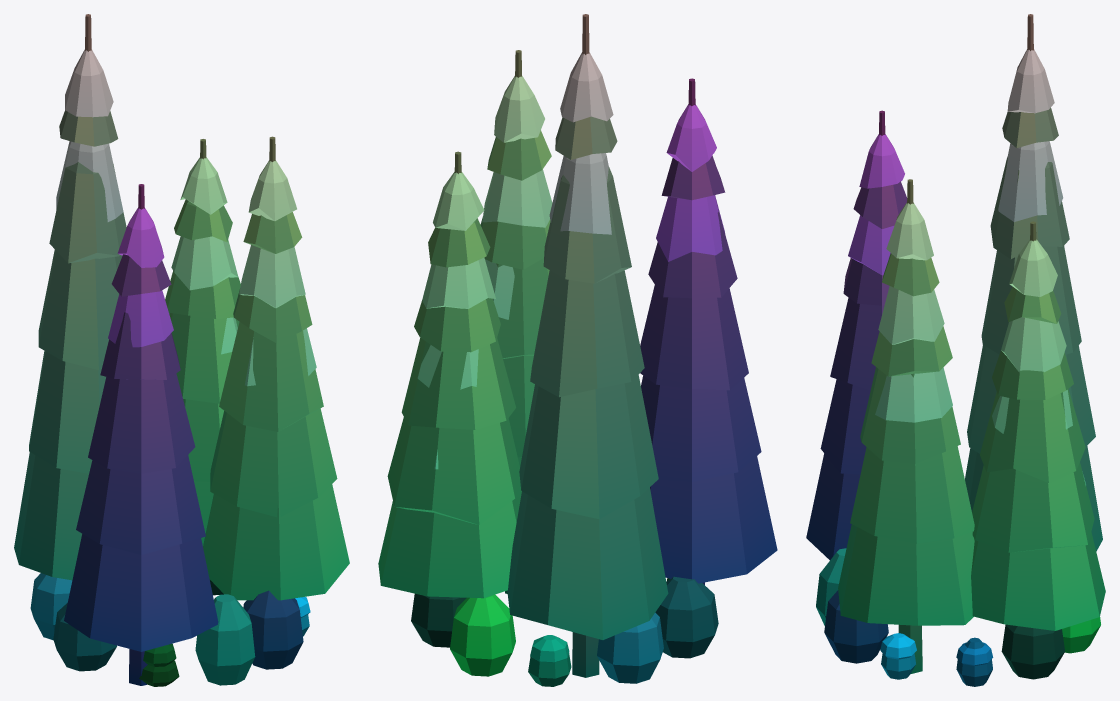
File: frost_00.glb
The picture shows the model from 3 angles, left to right: view 1: azimuth 30°, elevation 25°; view 2: azimuth 150°, elevation 25°; view 3: azimuth 270°, elevation 25°; orthographic projection. The views are drawn at different scales.
Parts seen in each view (by area): view 1: frost_00.002; view 2: frost_00.002; view 3: frost_00.002.
Boxes of the visible parts, bbox=[...] form: frost_00.002: bbox=[14, 14, 349, 686]; frost_00.002: bbox=[378, 14, 777, 686]; frost_00.002: bbox=[806, 14, 1105, 686].
Size of the model in its own units: 0.94 by 1.96 by 0.897.
